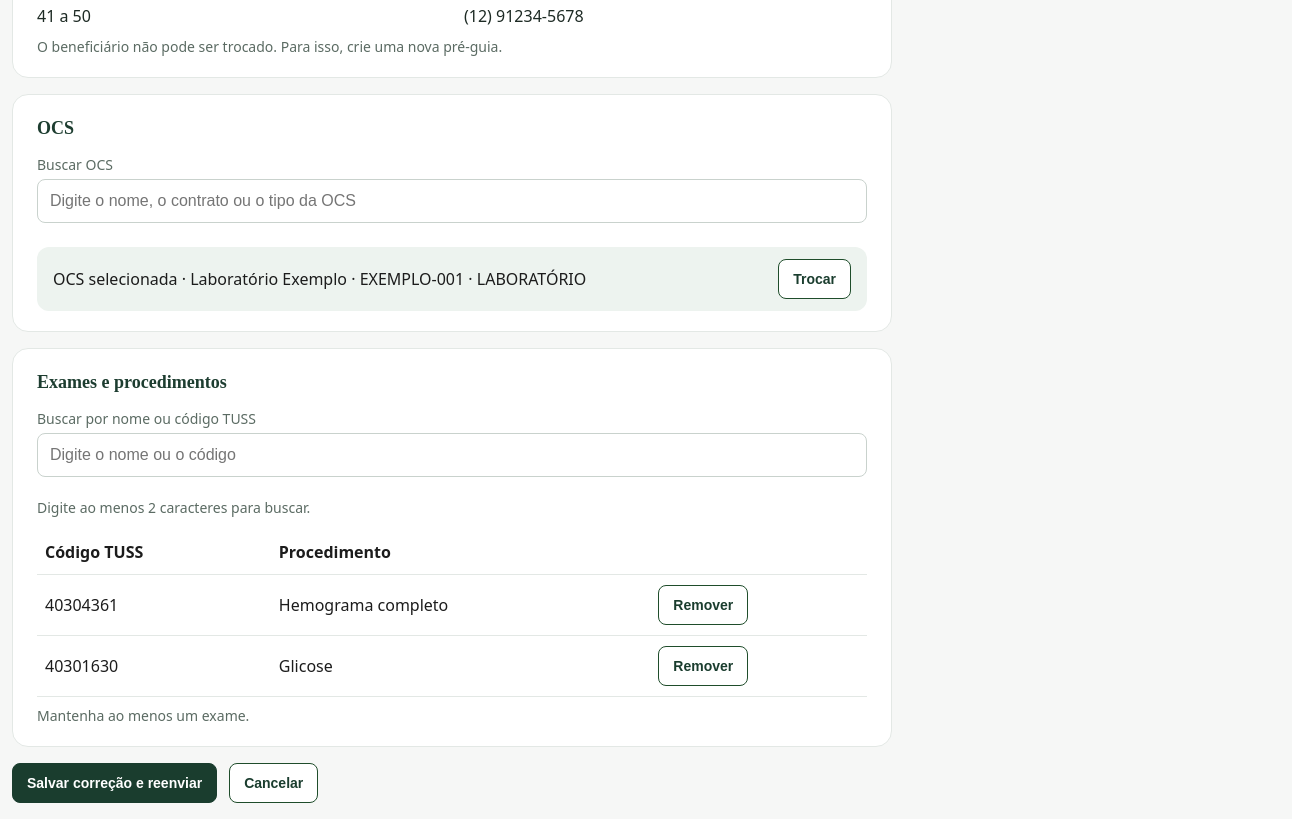
CorrigirPreGuiaPage › mostra o aviso de pré-guia já alterada quando a API responde 409
The width and height of the screenshot is (1292, 819).
(page scrolled)
Click the button "Salvar correção e reenviar" at (115, 783), box x1=12 y1=763 x2=217 y2=803
(page scrolled)
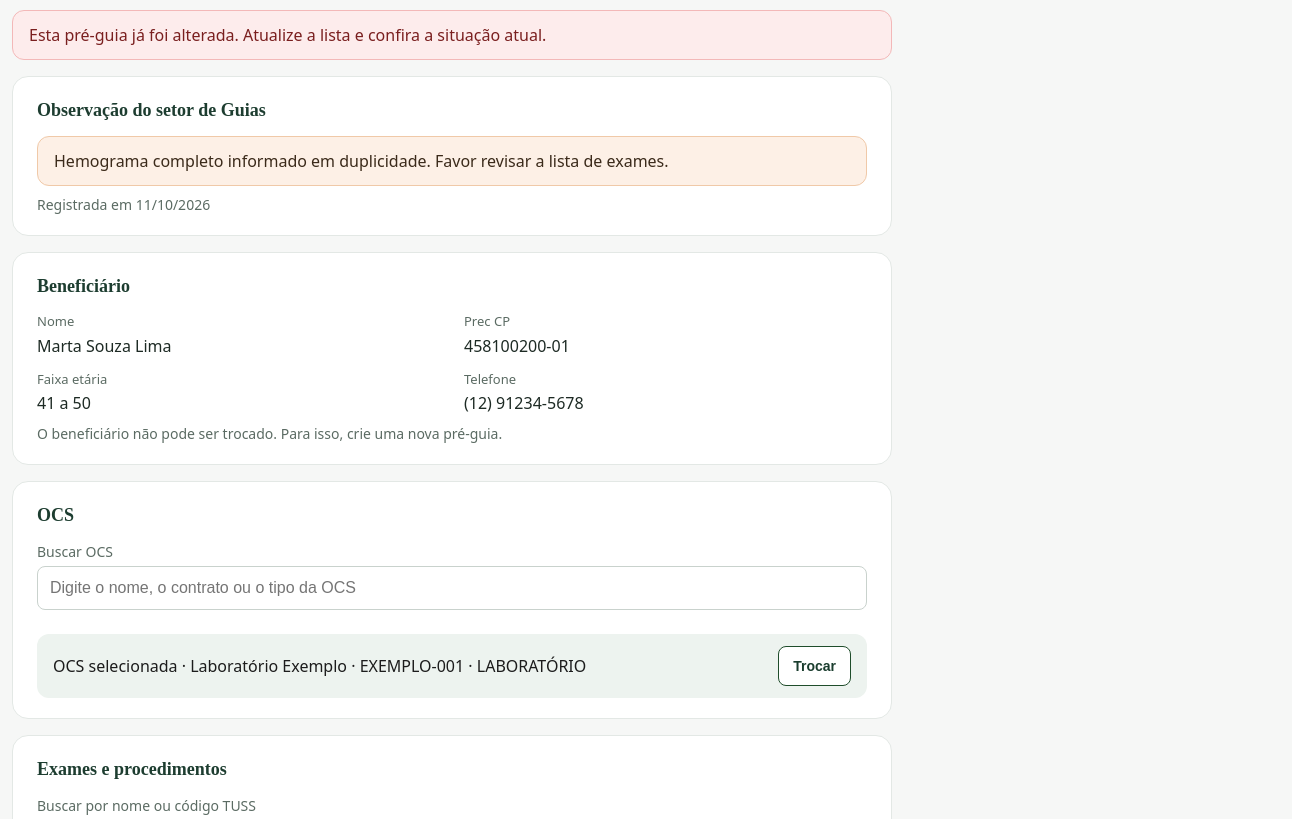
Expected: the message "Esta pré-guia já foi alterada. Atualize a lista e confira a situação atual." is shown, x1=12 y1=10 x2=892 y2=60
